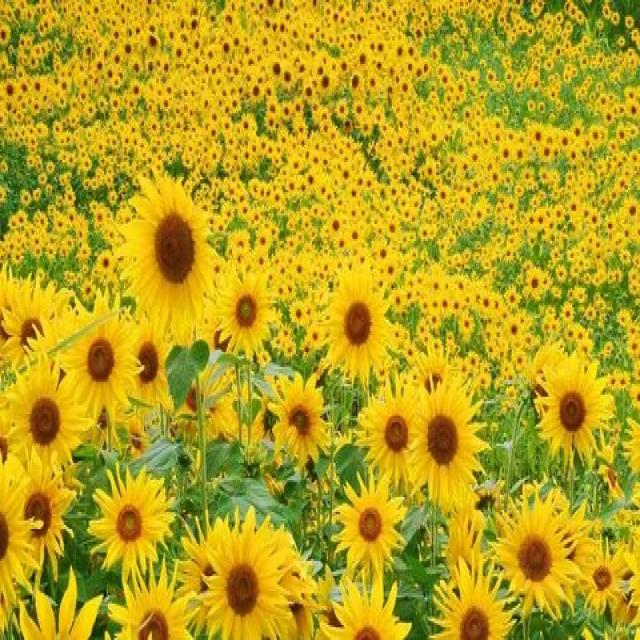sunflower: (113, 162, 219, 331), (201, 503, 295, 640), (56, 294, 140, 433), (411, 376, 489, 520), (500, 488, 579, 630), (1, 354, 86, 478), (89, 454, 176, 572), (316, 262, 391, 378), (331, 476, 409, 586), (538, 346, 614, 456), (355, 380, 428, 482), (212, 256, 277, 363), (272, 374, 332, 468), (583, 529, 632, 623)
